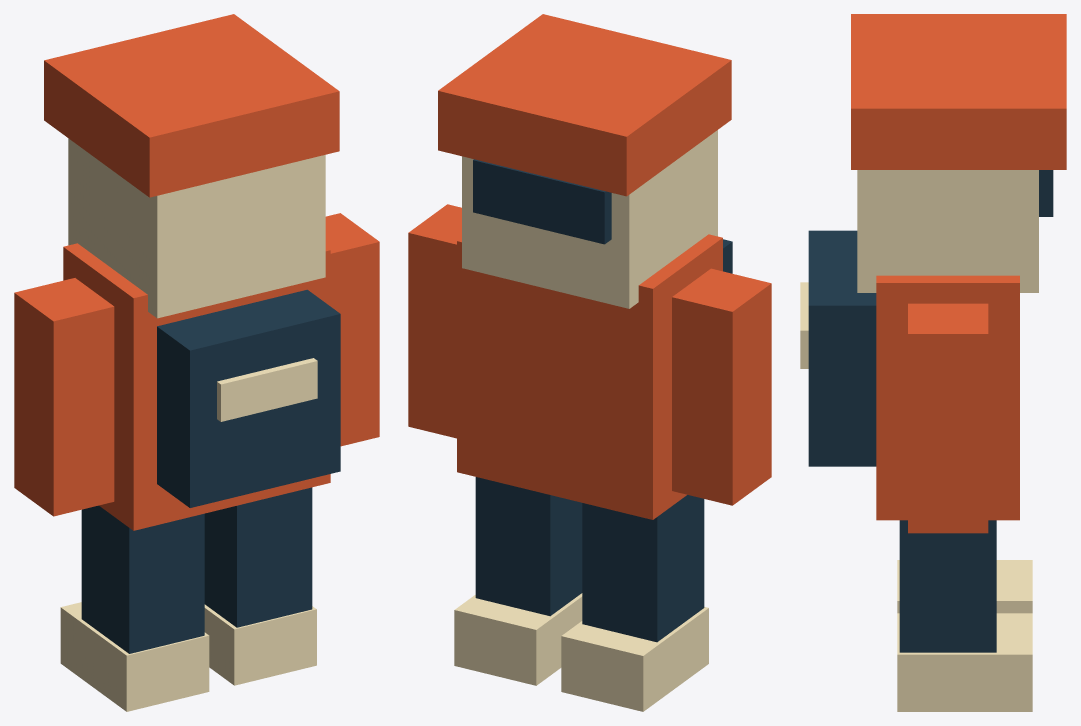
Rendered from courier.glb.
3 renders of one model, left to right at view 1: azimuth 30°, elevation 25°; view 2: azimuth 150°, elevation 25°; view 3: azimuth 270°, elevation 25°, orthographic. The views are drawn at different scales.
Parts seen in each view (by area): view 1: Cap, Mailbag, Head, LeftArm, Jacket, LeftLeg, RightLeg, RightArm, LeftBoot, RightBoot, Envelope; view 2: Jacket, Cap, LeftArm, Head, LeftLeg, RightLeg, RightArm, LeftBoot, RightBoot, Visor; view 3: Cap, Head, RightArm, Jacket, Mailbag, RightLeg, RightBoot, LeftBoot, Envelope, Visor.
Boxes of the visible parts, x1,y1,x2,y2 form: Cap: (44, 14, 339, 197); Mailbag: (157, 289, 340, 507); Head: (68, 138, 325, 318); LeftArm: (14, 278, 114, 516); Jacket: (63, 243, 330, 530); LeftLeg: (81, 505, 204, 653); RightLeg: (204, 487, 312, 627); RightArm: (325, 213, 379, 446); LeftBoot: (60, 602, 209, 711); RightBoot: (204, 604, 316, 685); Envelope: (217, 358, 317, 421); Jacket: (457, 234, 722, 519); Cap: (438, 14, 731, 196); LeftArm: (672, 268, 771, 505); Head: (462, 130, 717, 308); LeftLeg: (582, 495, 704, 642); RightLeg: (475, 477, 582, 616); RightArm: (408, 204, 461, 438); LeftBoot: (561, 607, 708, 711); RightBoot: (454, 593, 582, 685); Visor: (473, 159, 611, 244); Cap: (851, 14, 1066, 169); Head: (857, 170, 1038, 292); RightArm: (908, 303, 988, 533); Jacket: (876, 275, 1019, 520); Mailbag: (808, 230, 876, 466); RightLeg: (899, 520, 996, 652); RightBoot: (897, 613, 1032, 711); LeftBoot: (897, 560, 1032, 613); Envelope: (800, 282, 808, 368); Visor: (1039, 170, 1053, 216).
Bounding box in the file's own units: 0.91 × 1.57 × 0.6295.
